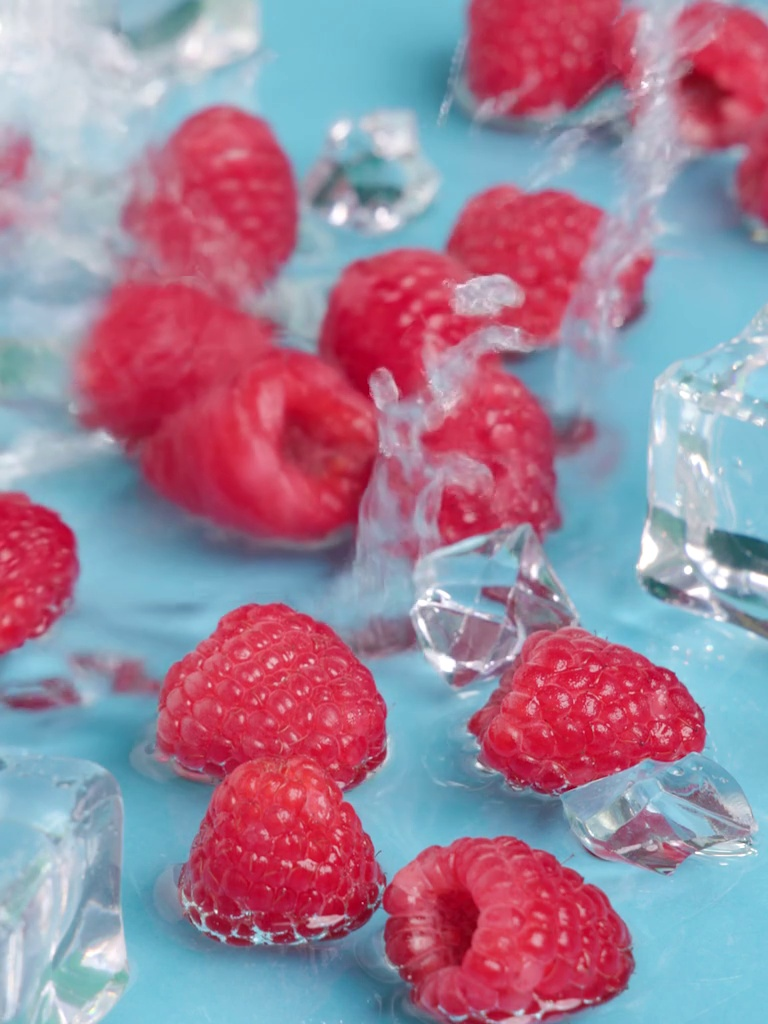Strawberry: (136, 338, 373, 526)
